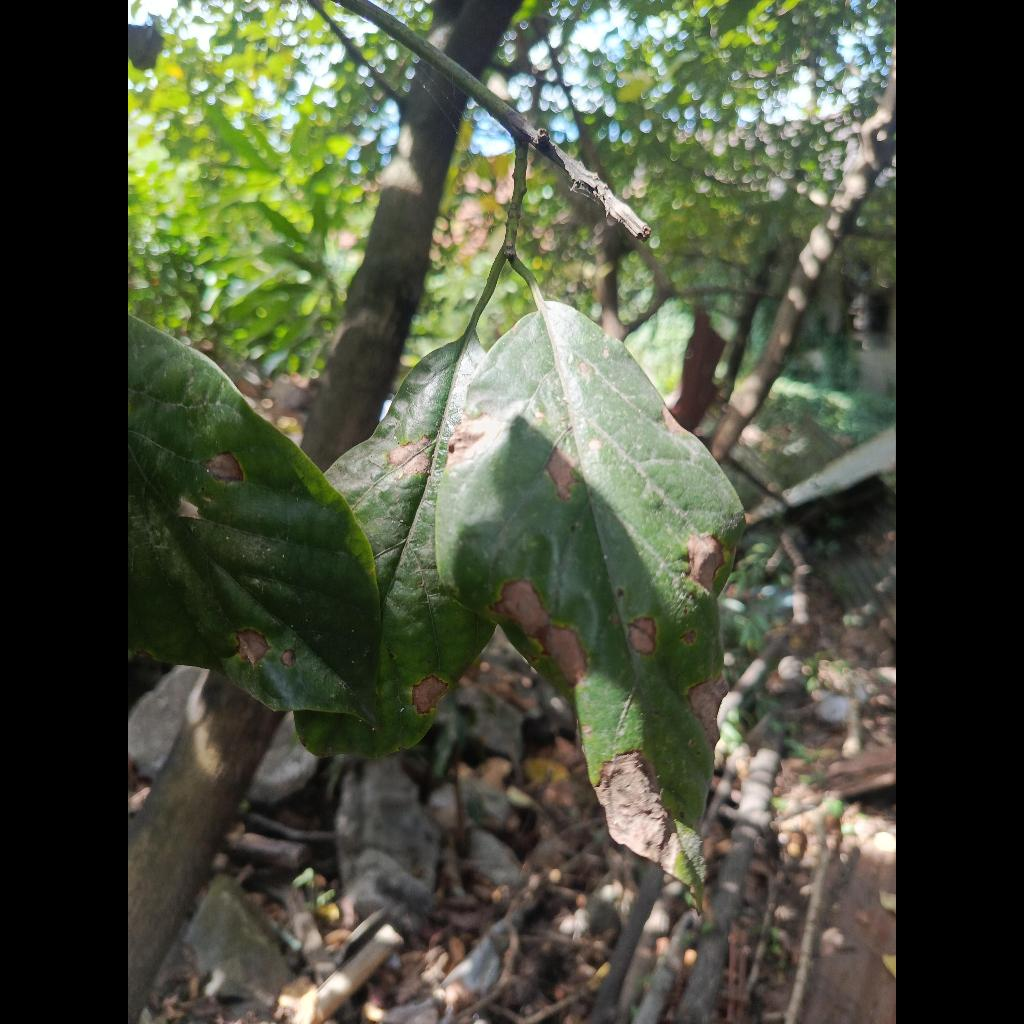antracnosis_hoja: (436, 302, 743, 899)
